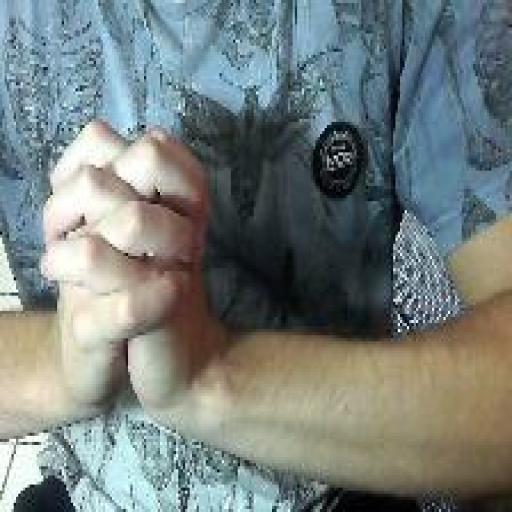Mi -snake-: (36, 112, 212, 426)
